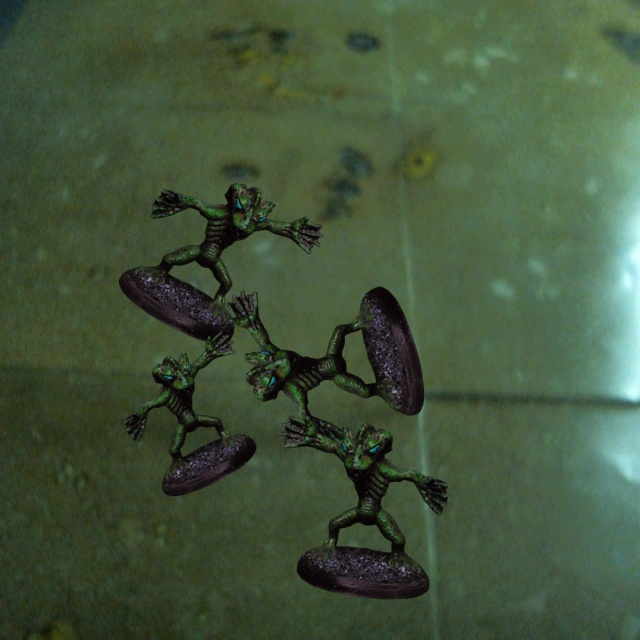pieza_juego: (119, 182, 322, 343), (226, 286, 423, 448), (278, 415, 448, 599), (123, 331, 256, 495)
